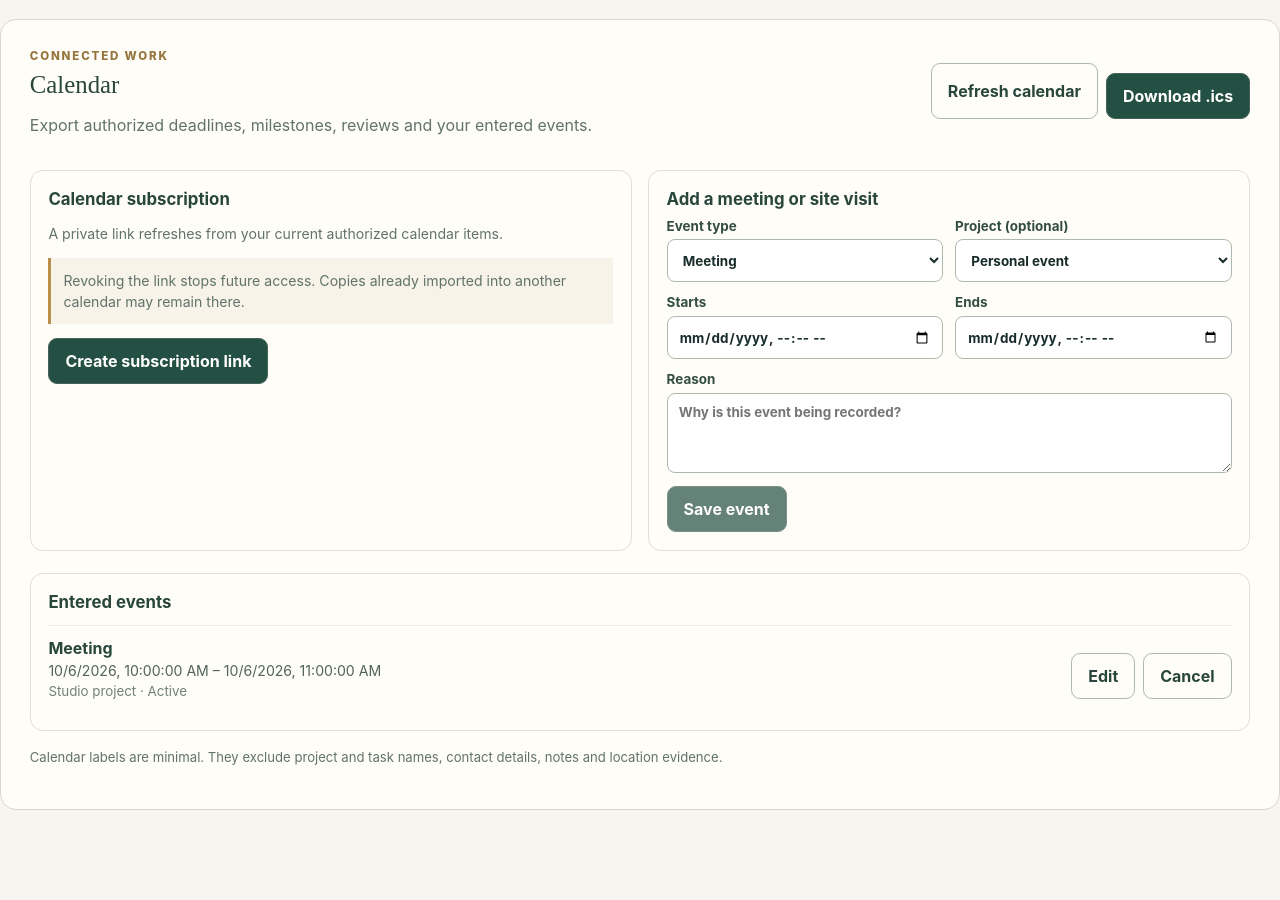
calendar integrations › reveals the subscription URL once and revokes it with CSRF
Click the button "Create subscription link".
click(158, 361)  # box x1=48 y1=338 x2=268 y2=384
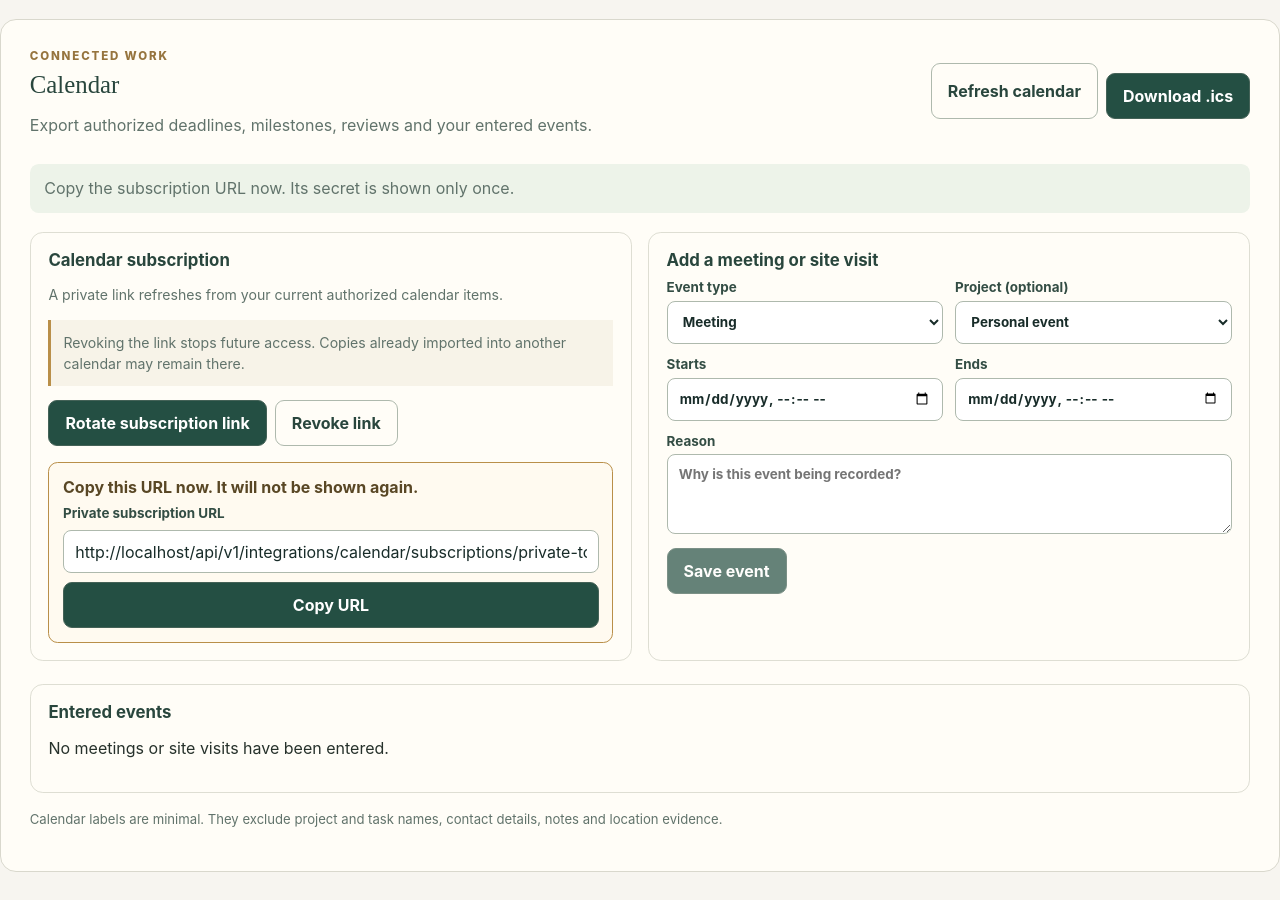
Expected: the text "Copy this URL now. It will not be shown again." is shown, x1=63 y1=476 x2=418 y2=496
Click the button "Revoke link".
click(336, 423)  # box x1=275 y1=400 x2=398 y2=446
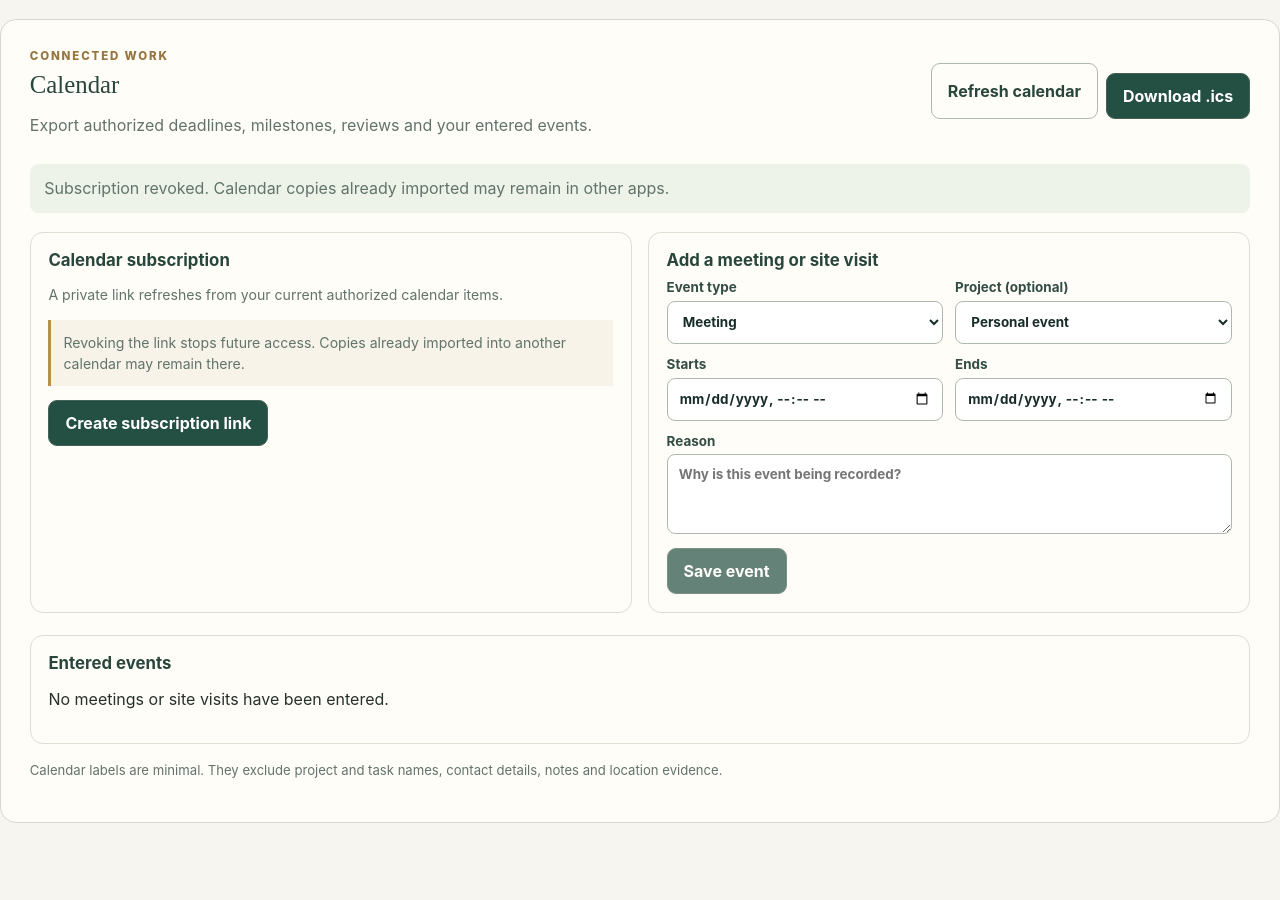
Expected: the text "Subscription revoked. Calendar copies already imported may remain" is shown, x1=44 y1=178 x2=669 y2=198
Expected: the label labelled "Private subscription URL" is gone
